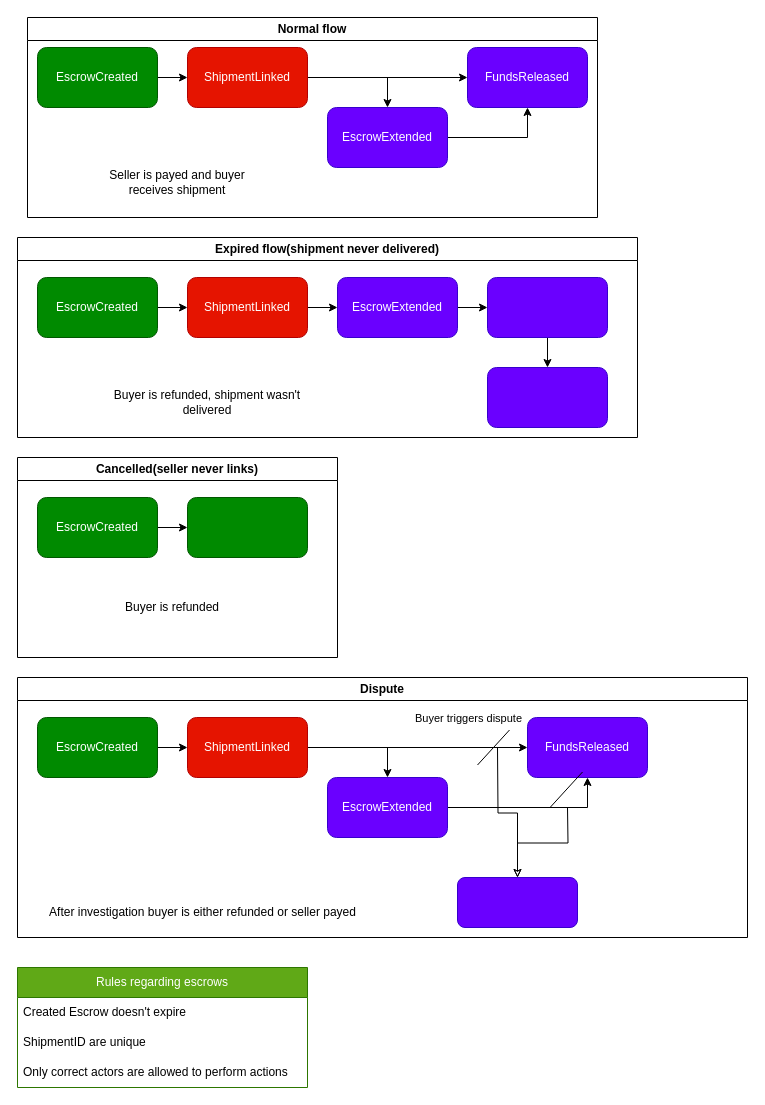
The diagram is 765 pixels wide and 1105 high, and some of its shapes have lost their labels. The centre of each missing label's shape, as x and y in pixels:
EscrowCancelled: point (247, 527)
EscrowExpired: point (547, 307)
FundsRefunded: point (547, 397)
Investigate: point (517, 902)
